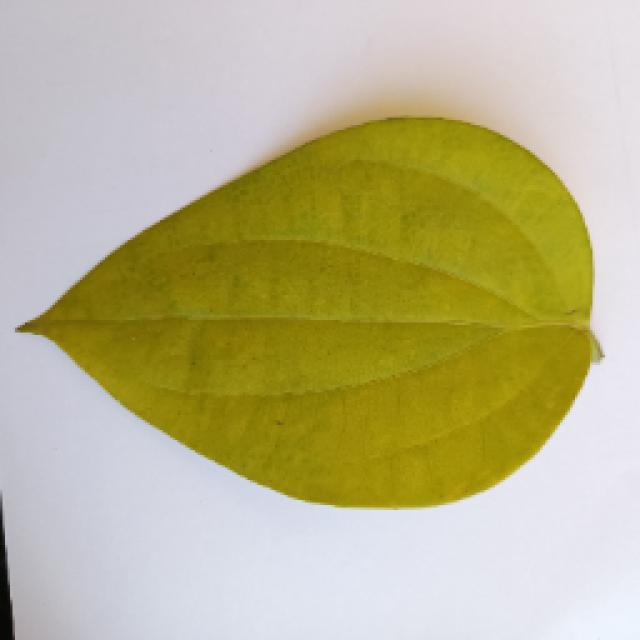slow-decline: (15, 115, 593, 507)
